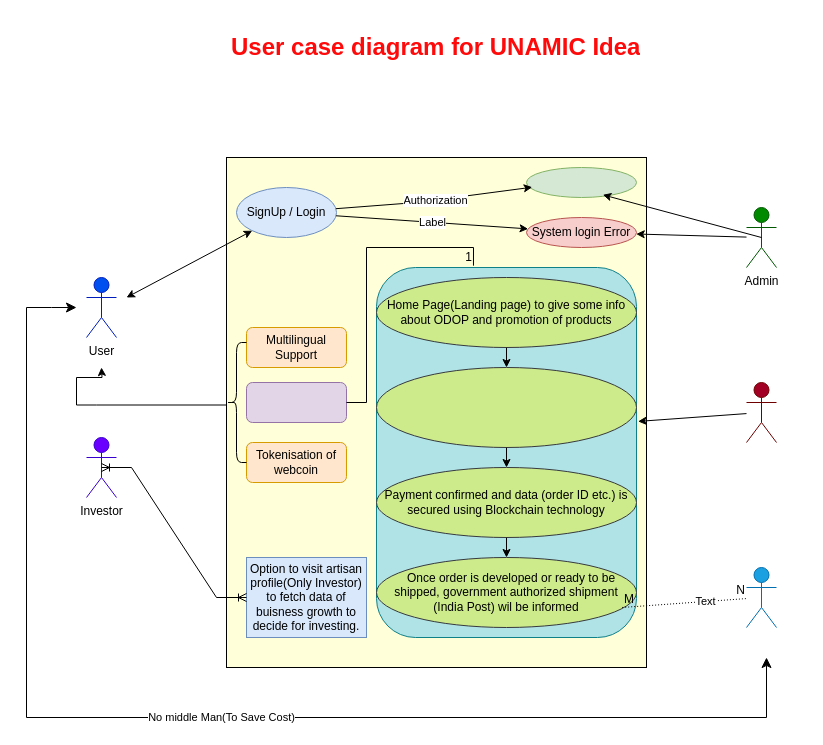
The diagram is 823 pixels wide and 745 high, and some of its shapes have lost their labels. The box of each missing label's shape, as (x1, y1, x2, y2) in pixels:
AI Powered Chatbot: (246, 382, 346, 422)
Artisan: (746, 382, 776, 442)
Logistic Provider: (746, 566, 776, 628)
Products page where user can order products directly form local artisan: (376, 366, 636, 448)
Verify Password: (526, 166, 636, 198)
